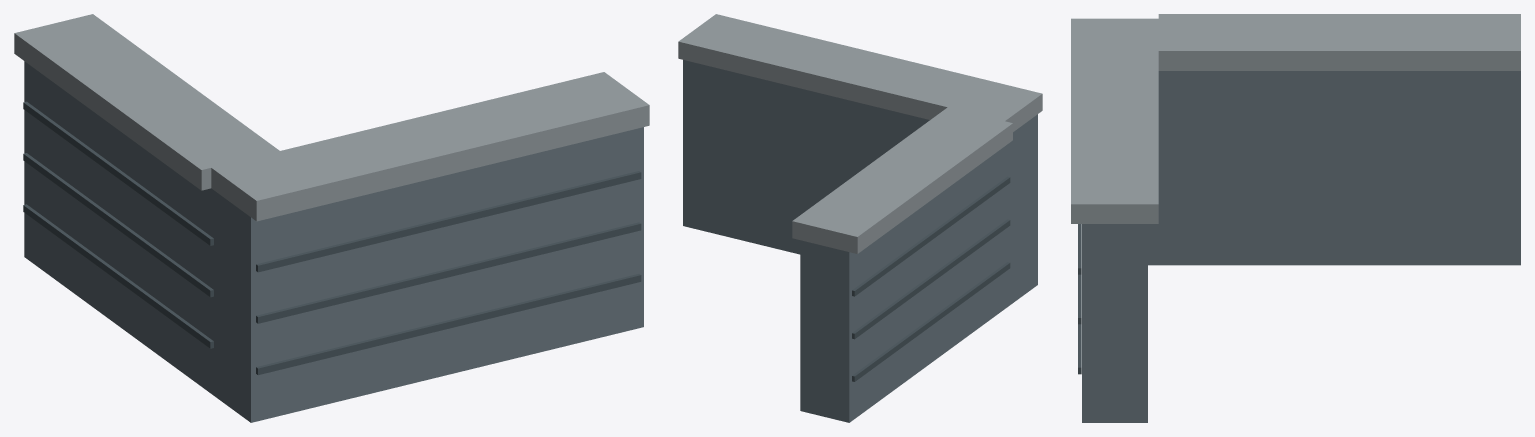
File: Blockland_RetainingWallCorner_Standard.glb
The picture shows the model from 3 angles, left to right: view 1: azimuth 30°, elevation 25°; view 2: azimuth 150°, elevation 25°; view 3: azimuth 270°, elevation 25°; orthographic projection. The views are drawn at different scales.
Visible parts, largest first — view 1: Blockland_RetainingWallCorner_Standard; view 2: Blockland_RetainingWallCorner_Standard; view 3: Blockland_RetainingWallCorner_Standard.
Boxes of the visible parts, x1,y1,x2,y2 form: Blockland_RetainingWallCorner_Standard: (14, 14, 649, 422); Blockland_RetainingWallCorner_Standard: (678, 14, 1042, 422); Blockland_RetainingWallCorner_Standard: (1071, 14, 1520, 422).
Bounding box in the file's own units: 4.1 × 2.2 × 4.1.
